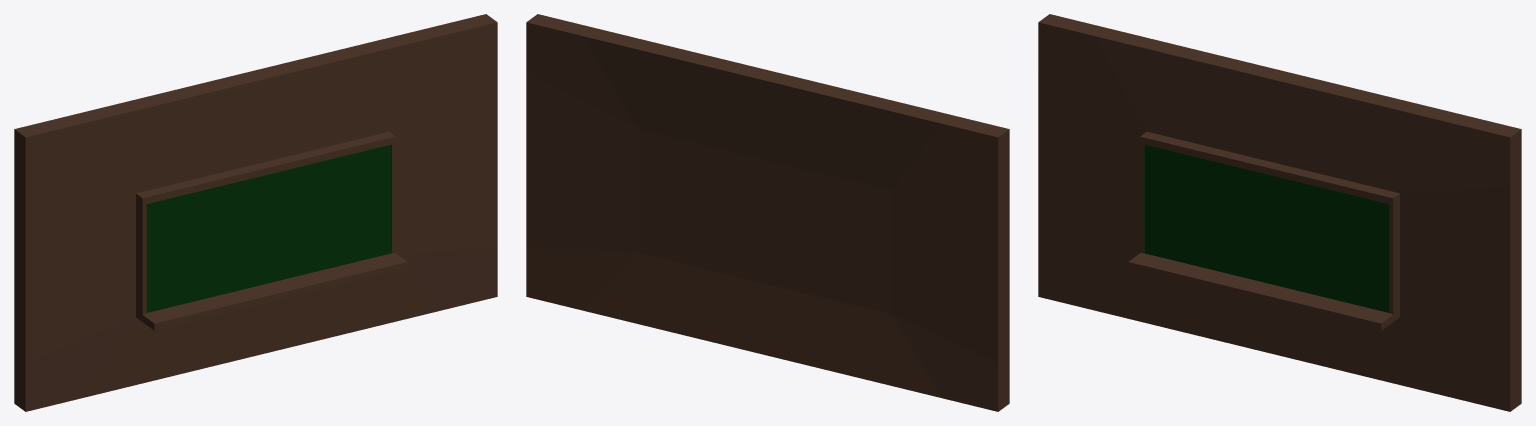
The model's file is ChalkBoardWall.fbx.
3 renders of one model, left to right at view 1: azimuth 30°, elevation 25°; view 2: azimuth 150°, elevation 25°; view 3: azimuth 330°, elevation 25°, orthographic.
Parts seen in each view (by area): view 1: ChalkBoardWall; view 2: ChalkBoardWall; view 3: ChalkBoardWall.
Part boxes in pixels (x1,y1,x2,y2): ChalkBoardWall: [14, 14, 497, 411]; ChalkBoardWall: [526, 14, 1009, 411]; ChalkBoardWall: [1038, 14, 1521, 411].
Bounding box in the file's own units: 4785 × 2660 × 542.
